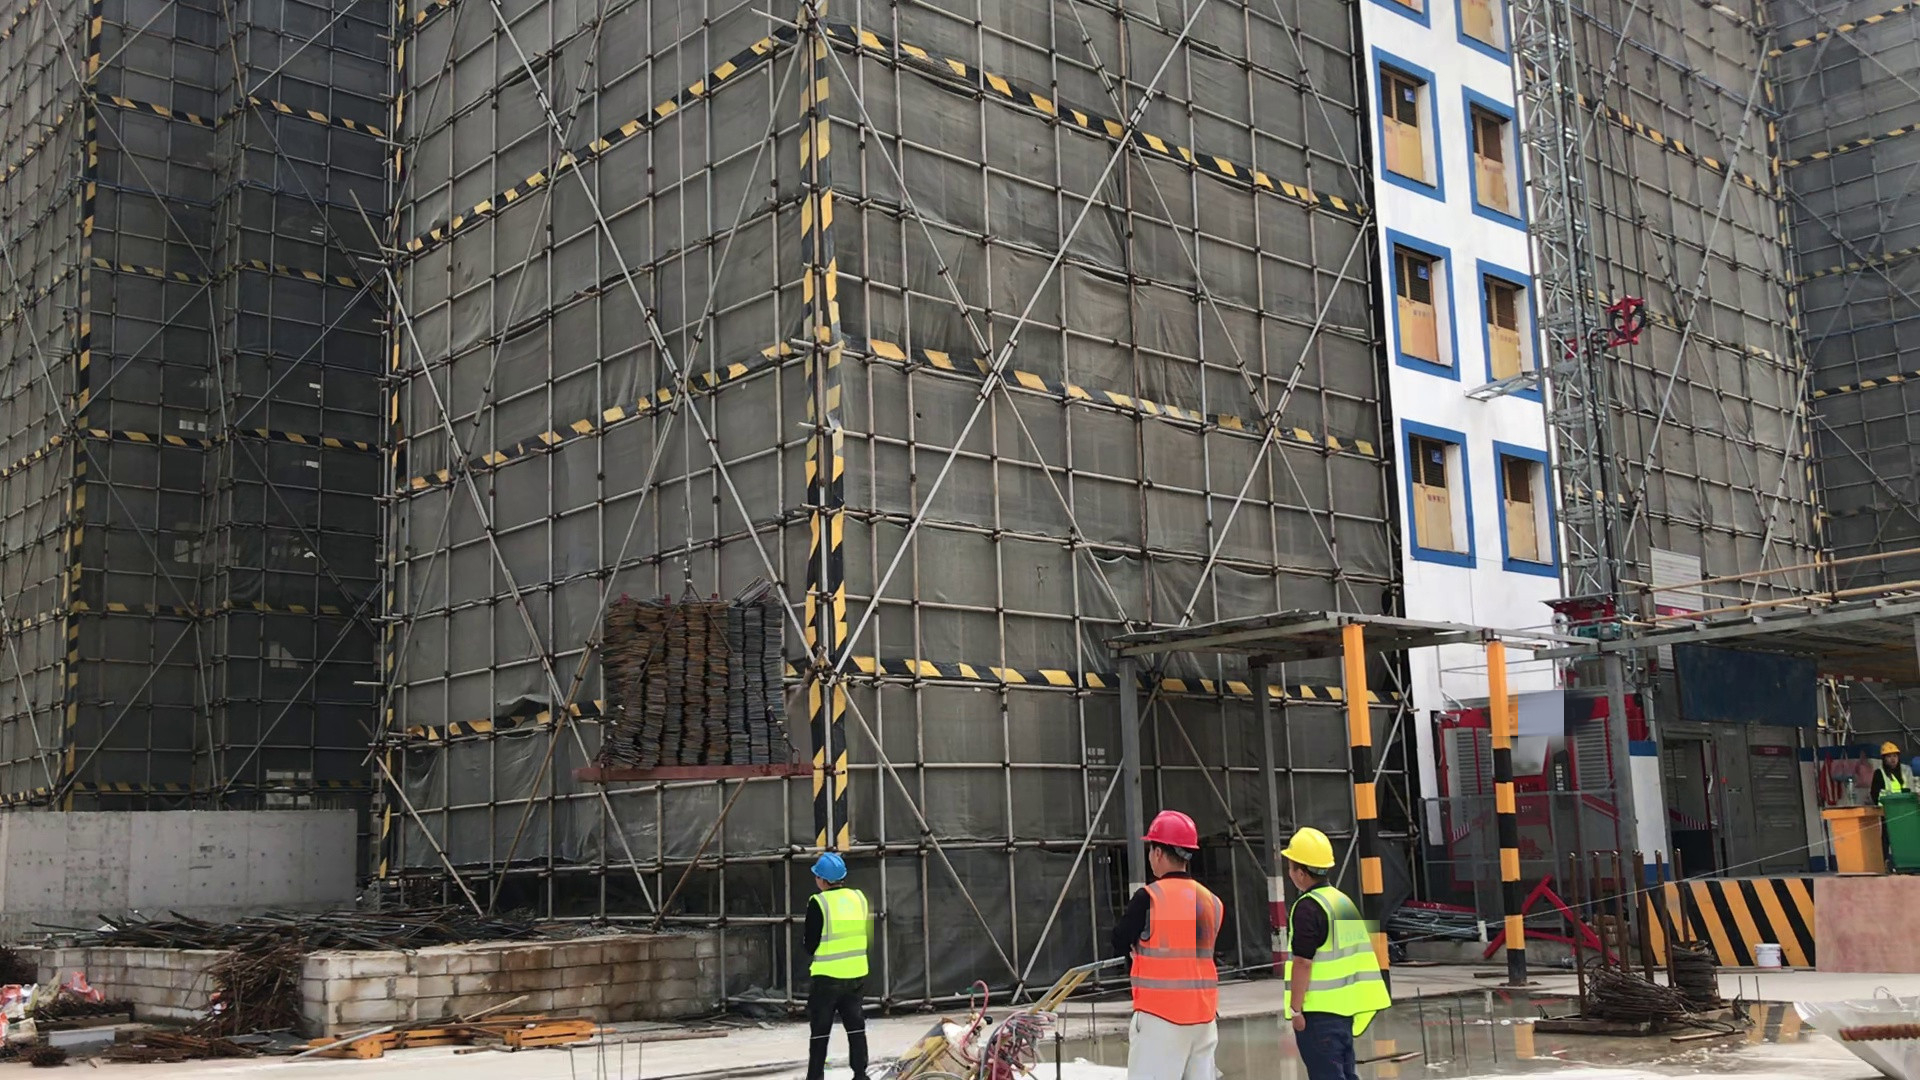helmet: (1137, 806, 1210, 857), (1283, 828, 1341, 871), (810, 850, 855, 890), (1880, 739, 1901, 757)
person: (1112, 798, 1228, 1080), (1281, 821, 1404, 1080), (797, 851, 892, 1080), (1871, 730, 1911, 805)
vest: (1285, 883, 1387, 1039), (1132, 878, 1223, 1023), (805, 890, 874, 986), (1875, 764, 1907, 795)
